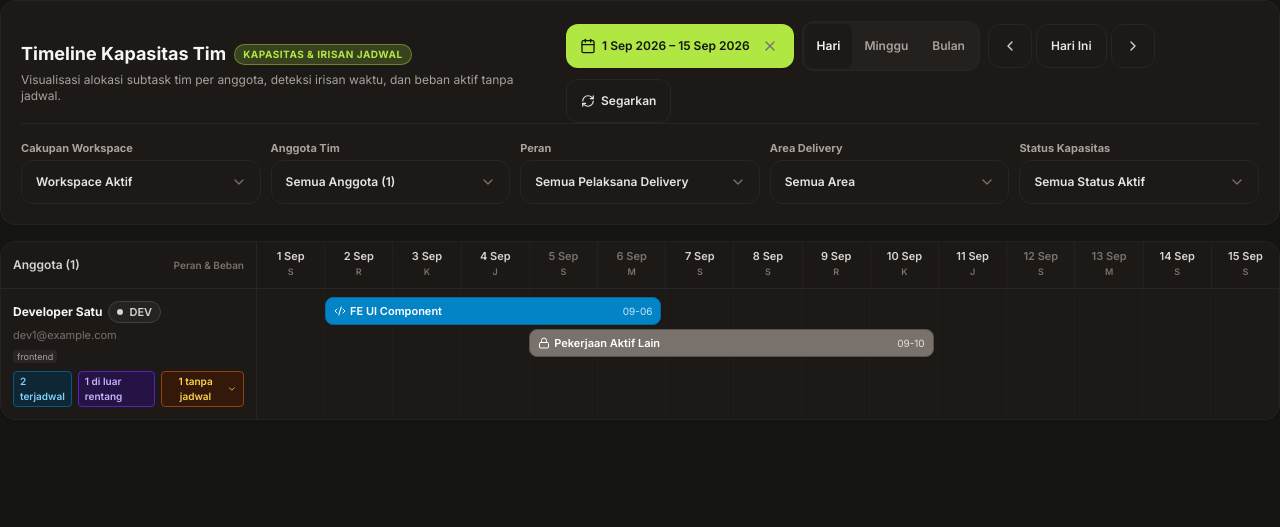
Test: TeamCapacityTimeline Component › expands unscheduled subtasks when clicking unscheduled chip
Expected: the text "1 tanpa jadwal" is shown, [178, 375, 213, 402]
// Click unscheduled toggle
Click the button "1 tanpa jadwal": (202, 389) [161, 371, 244, 407]
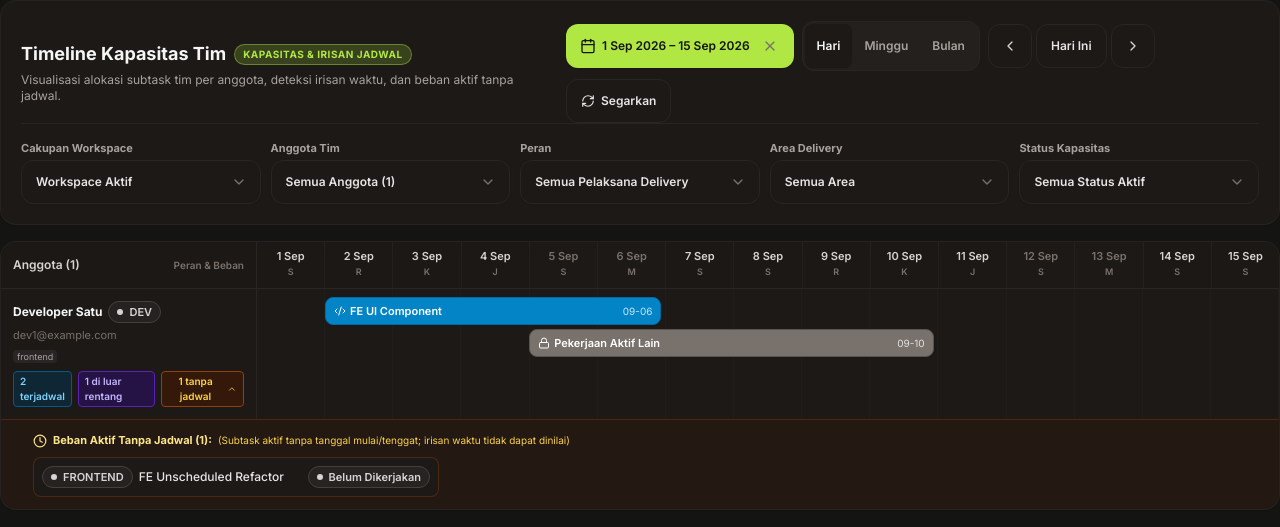
Expected: the text "FE Unscheduled Refactor" is shown, [139, 469, 284, 485]
Expected: the text "Beban Aktif Tanpa Jadwal (1):" is shown, [53, 432, 212, 449]
